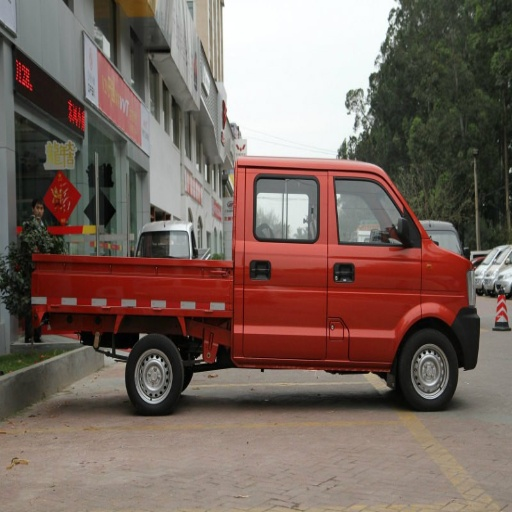trunk: (69, 260, 233, 361)
